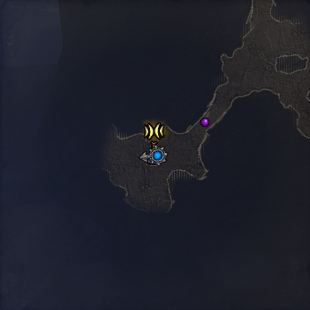ChannPylon: (142, 122, 166, 164)
